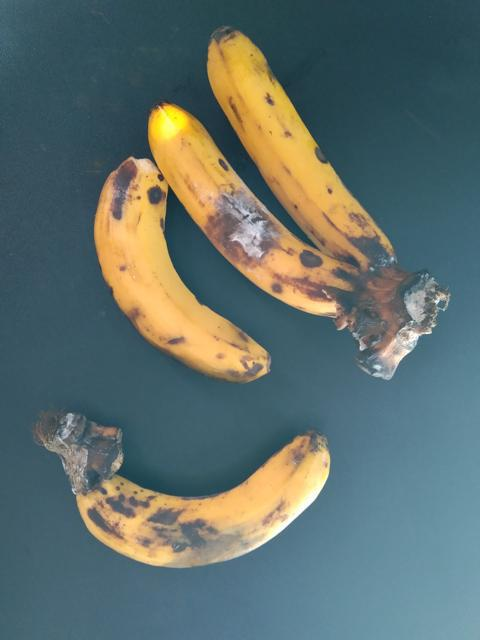ripe: (199, 26, 411, 266), (66, 430, 370, 588), (79, 146, 269, 397)
rotten: (136, 85, 355, 332)
